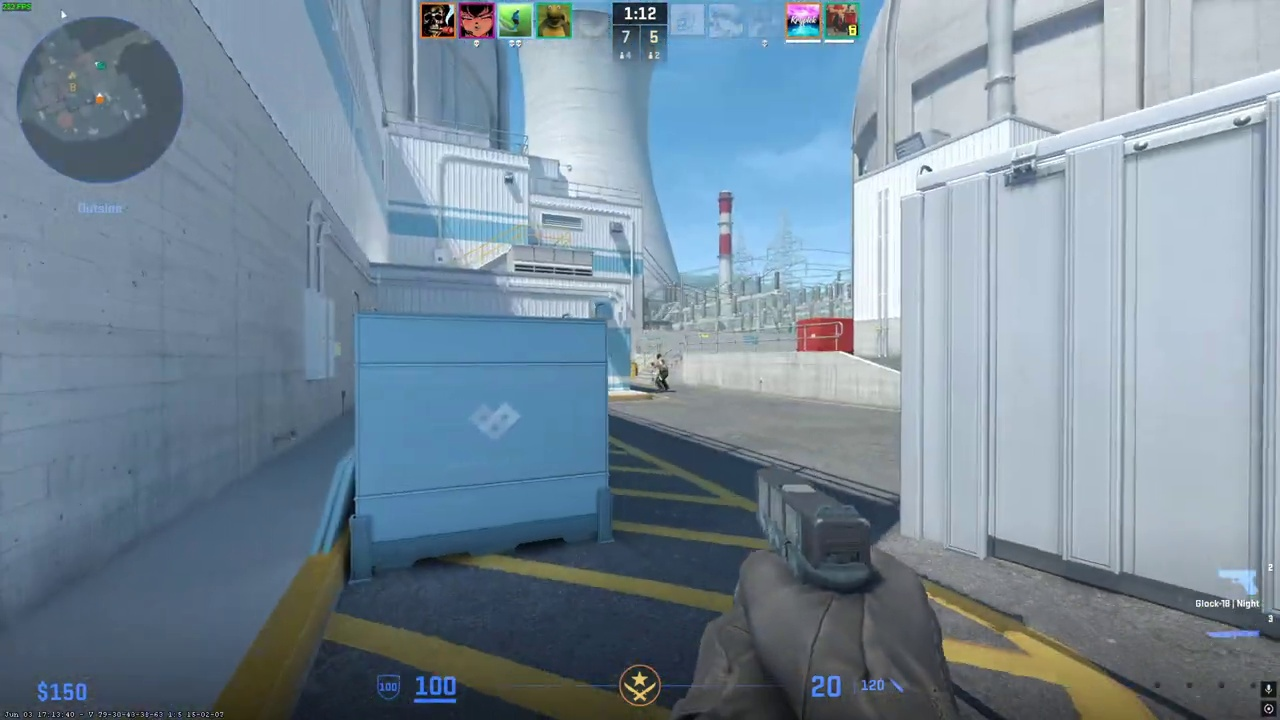Terrorist: (653, 354, 668, 391)
